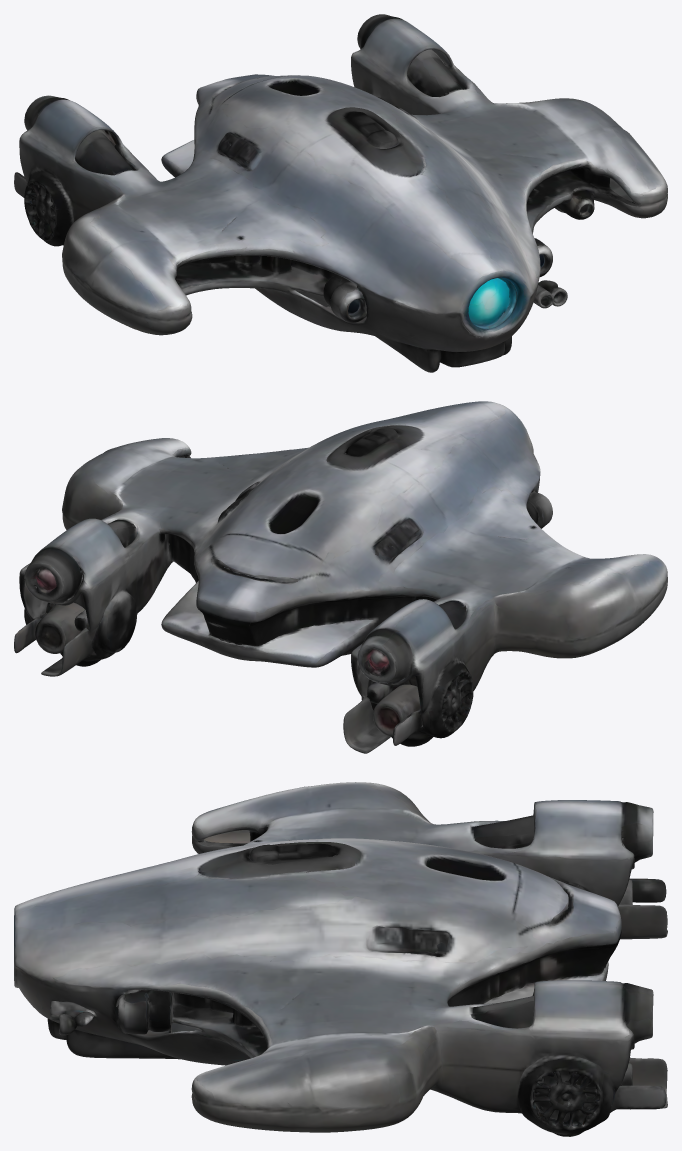
File: drone.glb
3 renders of one model, top to bottom at view 1: azimuth 30°, elevation 25°; view 2: azimuth 150°, elevation 25°; view 3: azimuth 270°, elevation 25°, orthographic. The views are drawn at different scales.
Bounding box in the file's own units: 1 × 0.3083 × 0.9207.
Materials: 1 (1 with a texture image).
